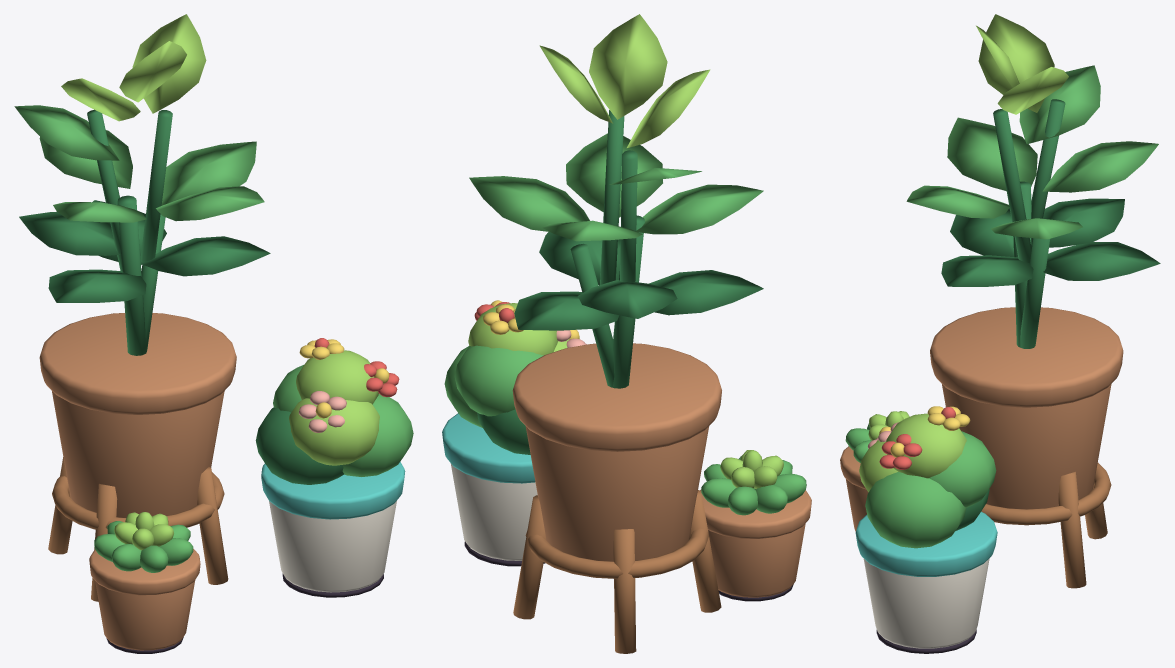
The model's file is plants-and-pots.glb.
3 renders of one model, left to right at view 1: azimuth 30°, elevation 25°; view 2: azimuth 150°, elevation 25°; view 3: azimuth 270°, elevation 25°, orthographic. The views are drawn at different scales.
Visible parts, largest first — view 1: DecPlants_TerracottaPots, DecPlants_FoliageDeep, DecPlants_FoliageMid, DecPlants_FoliageBright, DecPlants_CreamPot, DecPlants_WoodStand, DecPlants_TurquoiseBand, DecPlants_FlowersPeach, DecPlants_FlowersButter, DecPlants_SoilAndPads, DecPlants_FlowersCoral; view 2: DecPlants_TerracottaPots, DecPlants_FoliageMid, DecPlants_FoliageDeep, DecPlants_FoliageBright, DecPlants_WoodStand, DecPlants_CreamPot, DecPlants_TurquoiseBand, DecPlants_FlowersButter, DecPlants_SoilAndPads; view 3: DecPlants_TerracottaPots, DecPlants_FoliageMid, DecPlants_FoliageDeep, DecPlants_FoliageBright, DecPlants_CreamPot, DecPlants_TurquoiseBand, DecPlants_WoodStand, DecPlants_FlowersCoral, DecPlants_FlowersButter, DecPlants_SoilAndPads.
Boxes of the visible parts, x1,y1,x2,y2 form: DecPlants_TerracottaPots: (39,313,236,650); DecPlants_FoliageDeep: (19,109,344,484); DecPlants_FoliageMid: (14,105,413,572); DecPlants_FoliageBright: (61,14,379,550); DecPlants_CreamPot: (269,501,396,592); DecPlants_WoodStand: (48,457,228,601); DecPlants_TurquoiseBand: (261,462,405,519); DecPlants_FlowersPeach: (298,391,346,432); DecPlants_FlowersButter: (299,339,389,418); DecPlants_SoilAndPads: (106,573,383,653); DecPlants_FlowersCoral: (314,338,399,397); DecPlants_TerracottaPots: (512,343,811,597); DecPlants_FoliageMid: (444,133,806,515); DecPlants_FoliageDeep: (477,110,763,454); DecPlants_FoliageBright: (468,14,783,488); DecPlants_WoodStand: (513,490,721,653); DecPlants_CreamPot: (450,463,537,560); DecPlants_TurquoiseBand: (442,413,535,483); DecPlants_FlowersButter: (483,300,579,339); DecPlants_SoilAndPads: (464,541,793,601); DecPlants_TerracottaPots: (840,307,1123,531); DecPlants_FoliageMid: (845,65,1158,548); DecPlants_FoliageDeep: (941,99,1160,530); DecPlants_FoliageBright: (859,14,1068,492); DecPlants_CreamPot: (863,558,989,648); DecPlants_TurquoiseBand: (855,511,997,576); DecPlants_WoodStand: (981,462,1111,588); DecPlants_FlowersCoral: (879,407,955,469); DecPlants_FlowersButter: (879,406,970,457); DecPlants_SoilAndPads: (876,629,976,653).
Size of the model in its own units: 0.6934 by 1.13 by 0.6093.
